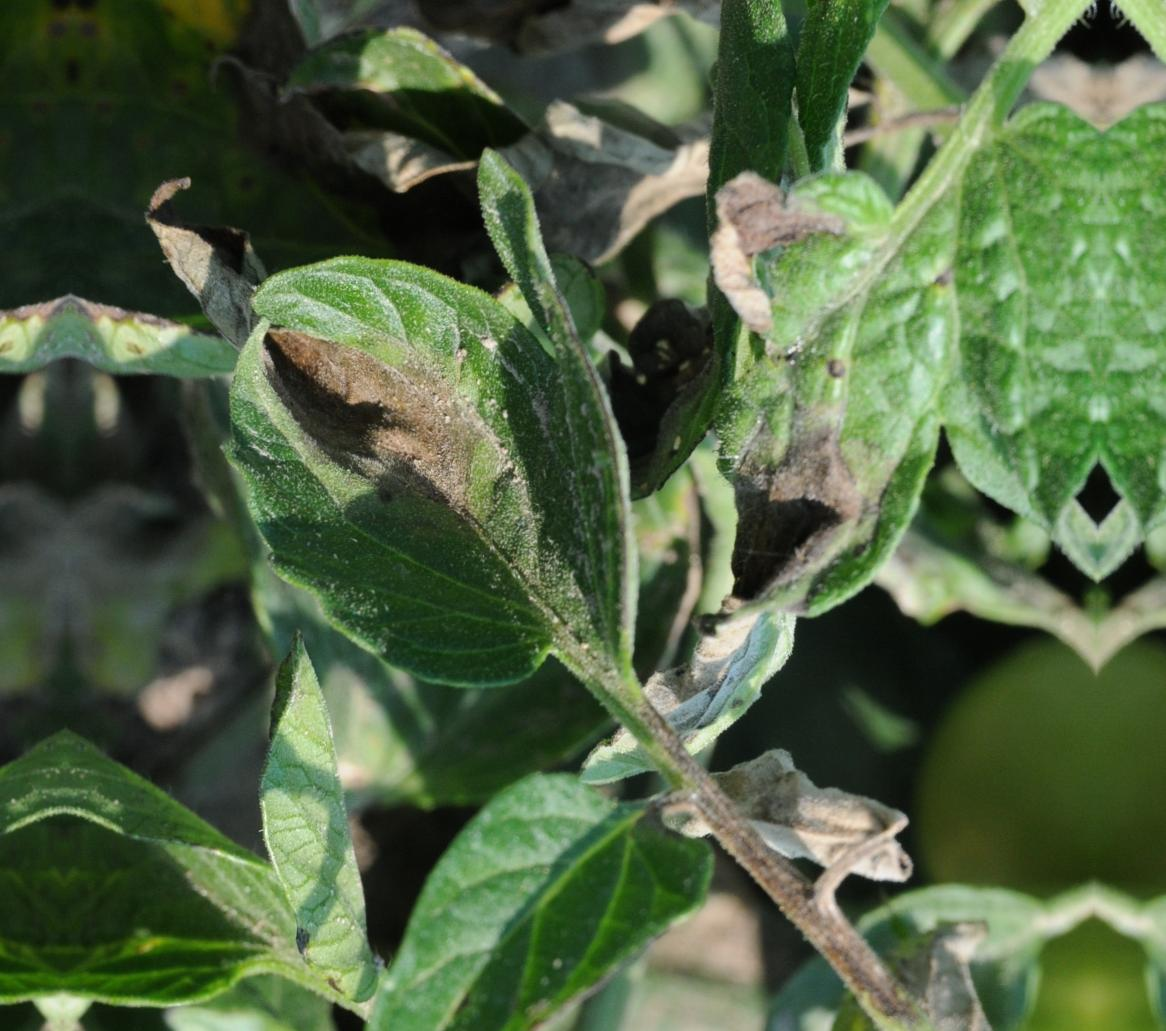Tomato leaf late blight: (170, 217, 648, 698), (672, 104, 1030, 606)
